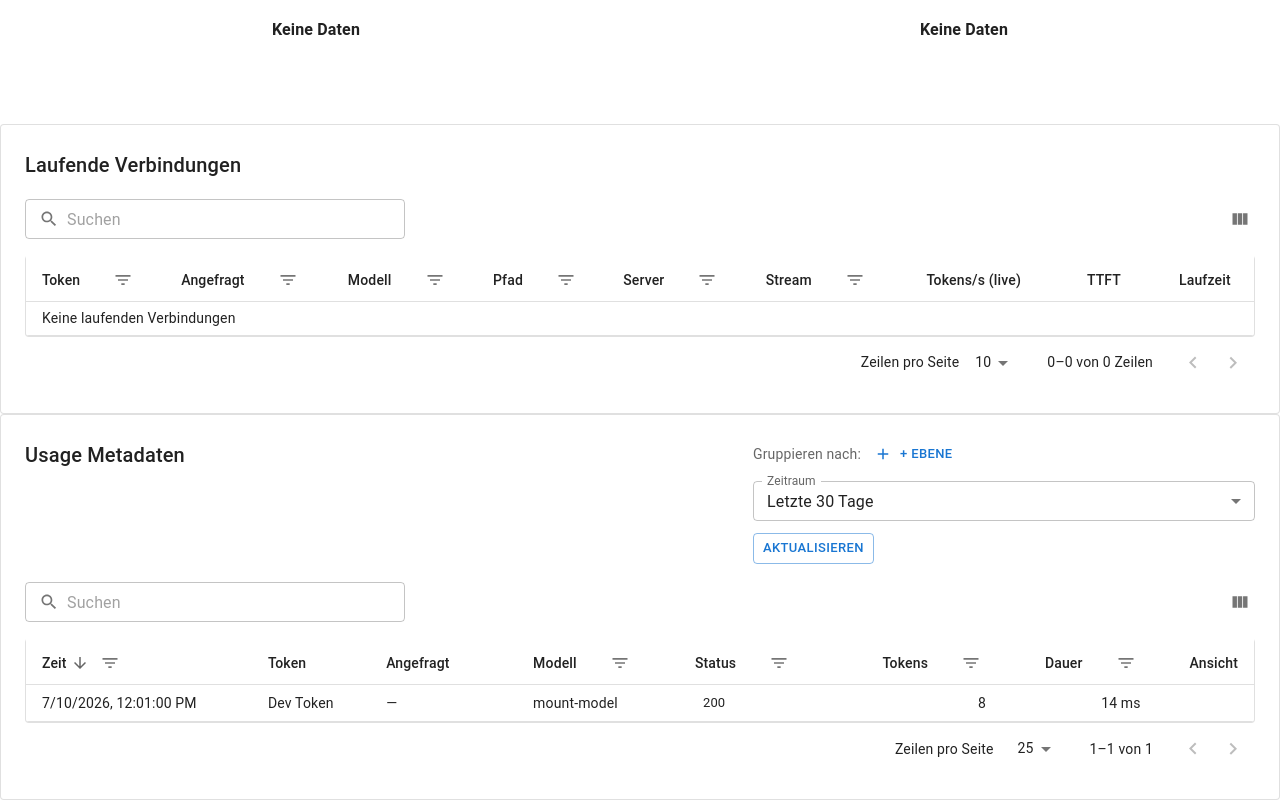
Scenario: commits an in-flight load's list after a newest SSE list refetch rejects
(page scrolled)
Expected: the cell "mount-model" is shown, [517, 684, 679, 722]
Type "req_filtered" into the field named "Suche (ID, Modell, Server, Token)" at (236, 602), box [67, 582, 405, 622]
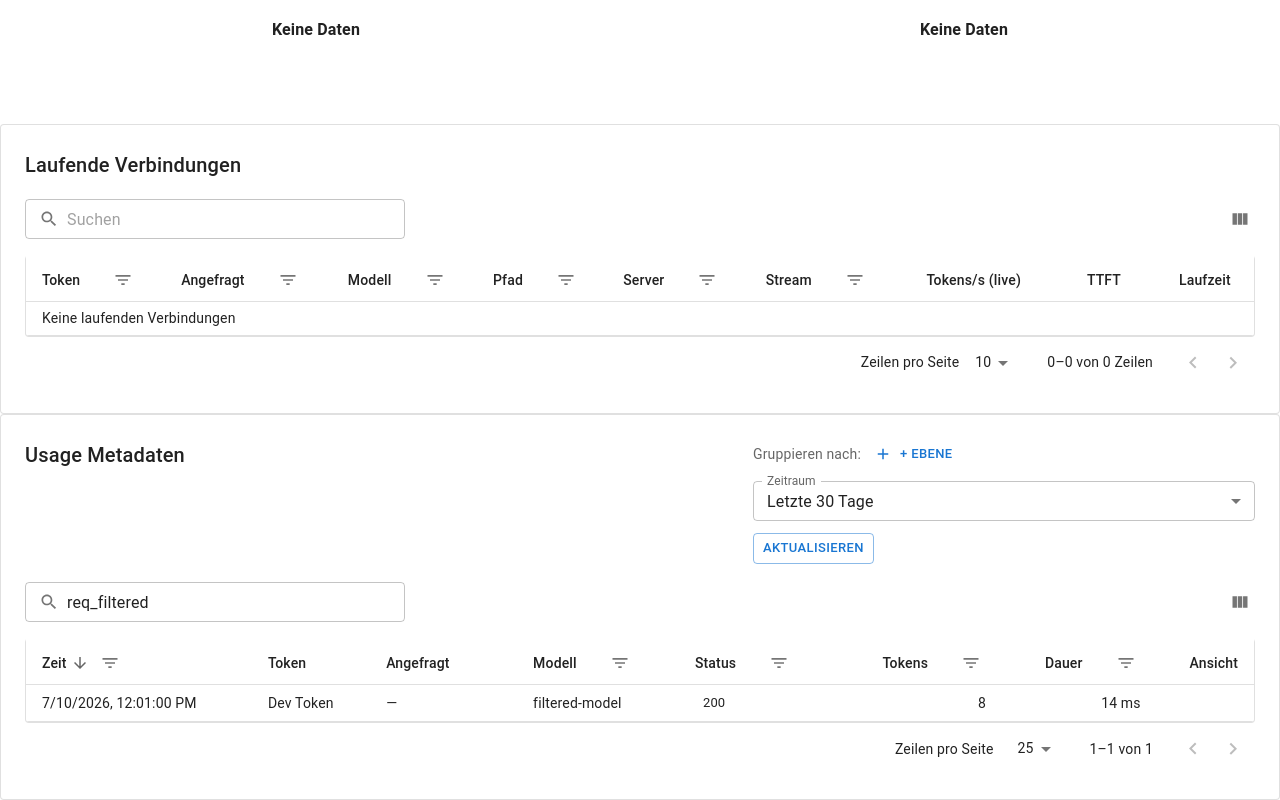
Expected: the cell "filtered-model" is shown, [517, 684, 679, 722]
Expected: the cell "mount-model" is gone
